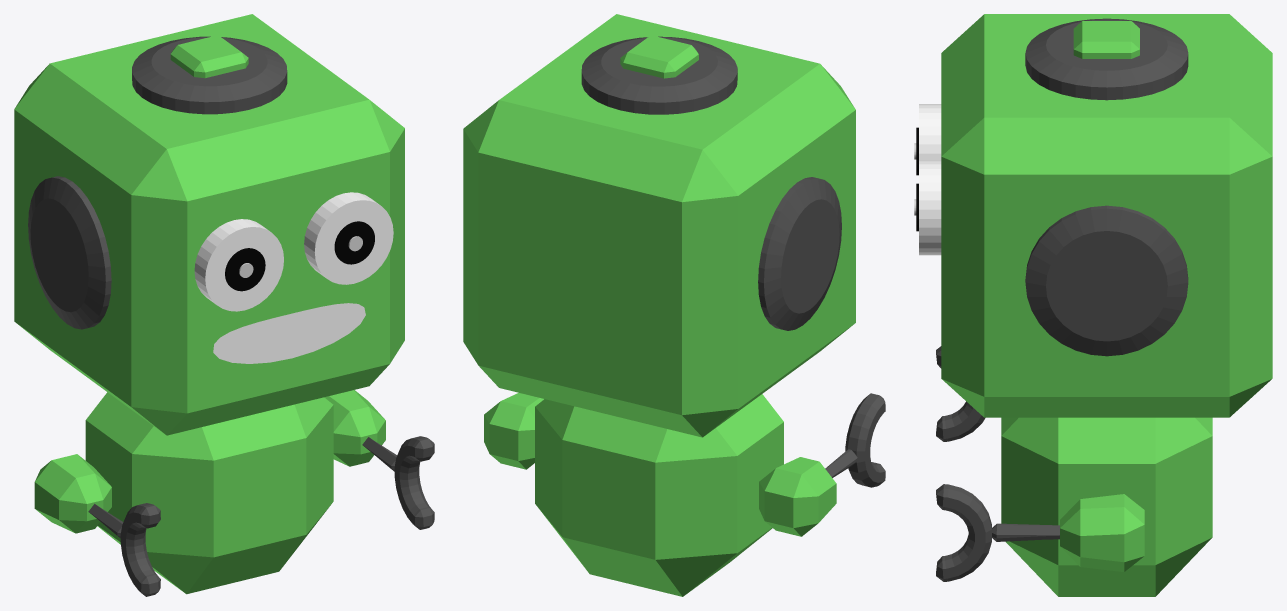
The model's file is robot.glb.
The picture shows the model from 3 angles, left to right: view 1: azimuth 30°, elevation 25°; view 2: azimuth 150°, elevation 25°; view 3: azimuth 270°, elevation 25°; orthographic projection. The views are drawn at different scales.
Parts seen in each view (by area): view 1: Head, Torso, Cylinder.004, Cylinder.002, Cylinder.001, Cylinder.003, BezierCircle, Arm, Arm.001, Cube.002, Cube.004, Cube.005; view 2: Head, Torso, Cylinder.004, Cylinder.002, Arm, Arm.001, Cube.004, Cube.005; view 3: Head, Torso, Cylinder.005, Cylinder.002, Arm.001, Cube.002, Cube.005, Cylinder.001, Cylinder.003, Cube.004, Cube.001.
Part boxes in pixels (box(x1,y1,x2,y2)): Head: box(14, 14, 404, 435); Torso: box(85, 392, 333, 594); Cylinder.004: box(28, 176, 111, 329); Cylinder.002: box(132, 36, 287, 114); Cylinder.001: box(304, 192, 393, 284); Cylinder.003: box(194, 219, 283, 311); BezierCircle: box(213, 303, 365, 363); Arm: box(34, 454, 111, 533); Arm.001: box(324, 390, 385, 466); Cube.002: box(394, 436, 434, 529); Cube.004: box(120, 503, 160, 596); Cube.005: box(170, 35, 248, 78); Head: box(463, 14, 855, 437); Torso: box(535, 394, 783, 596); Cylinder.004: box(758, 177, 841, 330); Cylinder.002: box(581, 36, 737, 114); Arm: box(759, 457, 836, 536); Arm.001: box(484, 393, 543, 469); Cube.004: box(845, 393, 885, 487); Cube.005: box(620, 35, 698, 78); Head: box(941, 14, 1272, 417); Torso: box(1001, 417, 1212, 596); Cylinder.005: box(1025, 205, 1188, 356); Cylinder.002: box(1025, 18, 1188, 100); Arm.001: box(1060, 494, 1144, 571); Cube.002: box(936, 484, 991, 581); Cube.005: box(1073, 21, 1139, 58); Cylinder.001: box(914, 160, 941, 255); Cylinder.003: box(914, 104, 941, 175); Cube.004: box(936, 346, 985, 441); Cube.001: box(992, 523, 1059, 541).
Size of the model in its own units: 0.4381 by 0.6501 by 0.3892.
